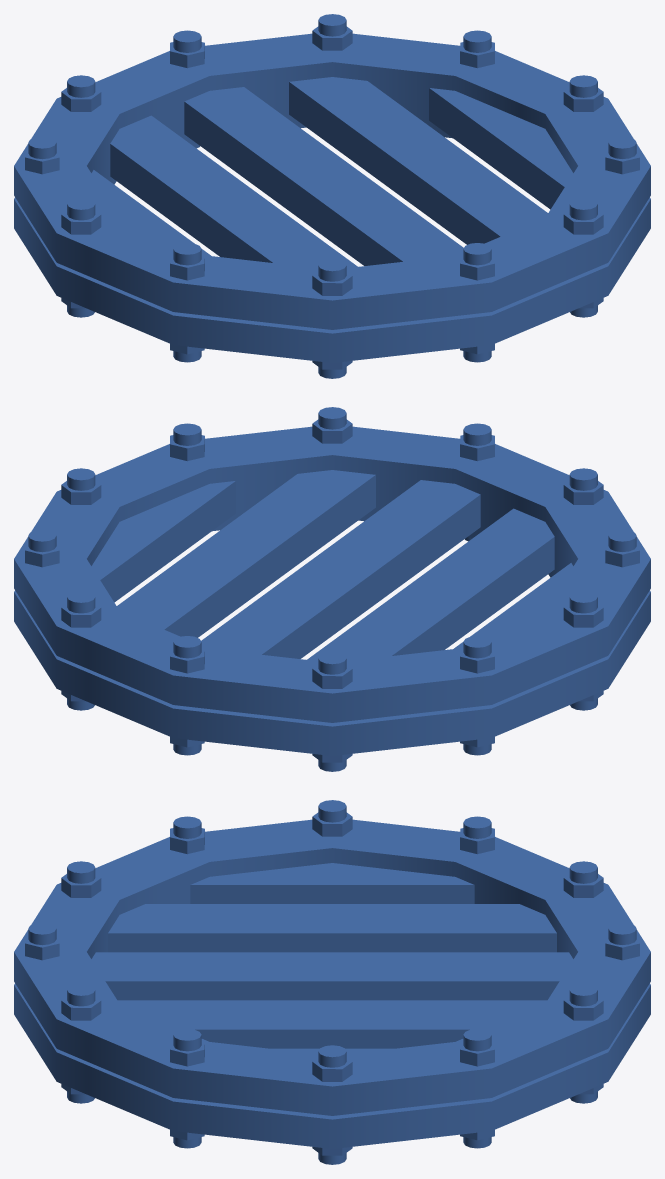
Rendered from SM_Pipe_EndSection_Closed.fbx.
3 views of the same model, one above another, from view 1: azimuth 30°, elevation 25°; view 2: azimuth 150°, elevation 25°; view 3: azimuth 270°, elevation 25° (orthographic).
Visible parts, largest first — view 1: SM_Pipe_Thick_Long_Closed_low.005; view 2: SM_Pipe_Thick_Long_Closed_low.005; view 3: SM_Pipe_Thick_Long_Closed_low.005.
Boxes of the visible parts, x1,y1,x2,y2 form: SM_Pipe_Thick_Long_Closed_low.005: (14, 14, 650, 378); SM_Pipe_Thick_Long_Closed_low.005: (14, 407, 650, 771); SM_Pipe_Thick_Long_Closed_low.005: (14, 800, 650, 1164).
Size of the model in its own units: 32.13 by 5.99 by 32.13.
